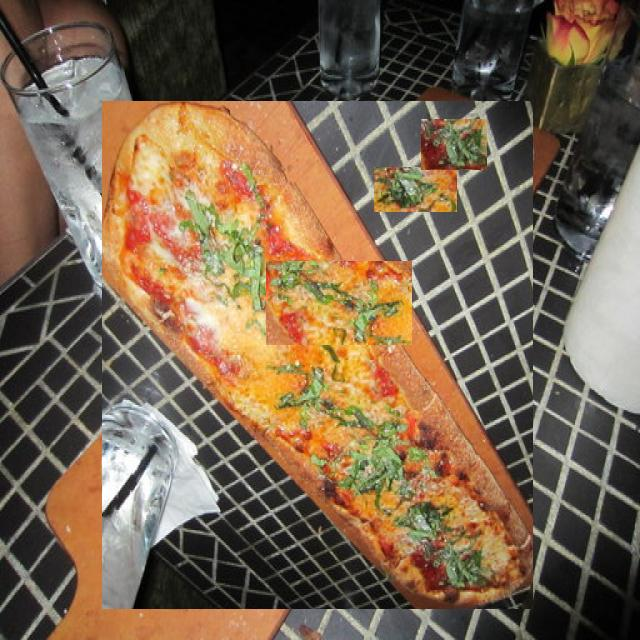basil: (266, 261, 412, 345), (182, 398, 282, 519), (311, 212, 438, 268), (276, 347, 342, 439), (374, 167, 457, 212), (421, 119, 487, 170)
pizza: (102, 101, 533, 609)
